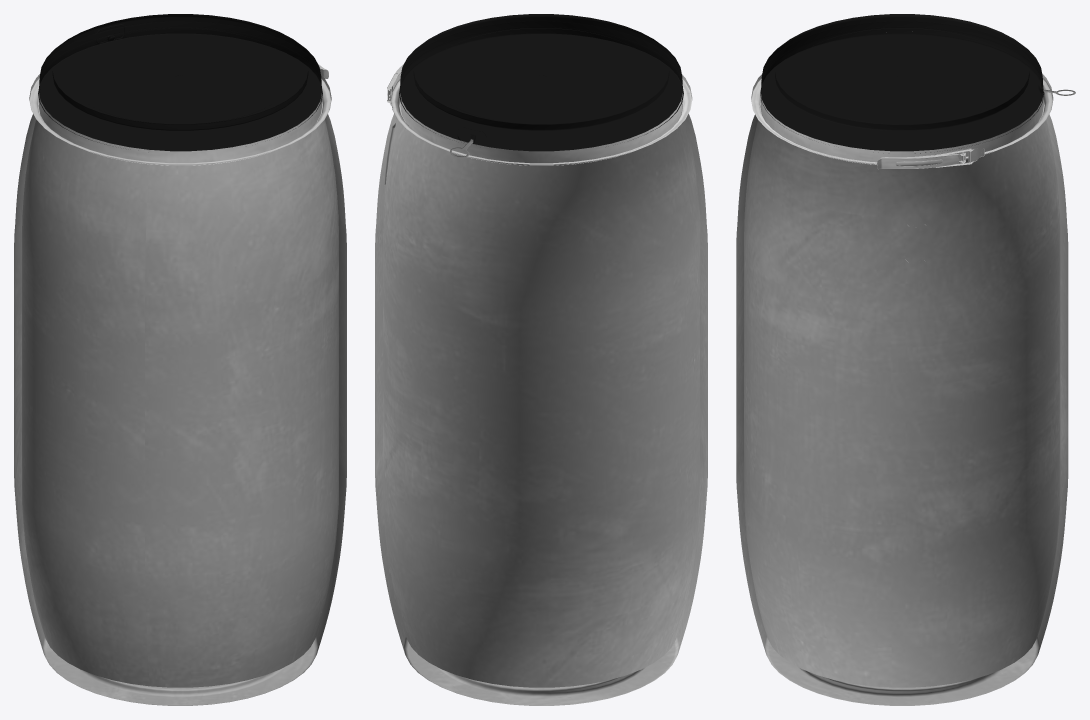
Rendered from barril.glb.
3 renders of one model, left to right at view 1: azimuth 30°, elevation 25°; view 2: azimuth 150°, elevation 25°; view 3: azimuth 270°, elevation 25°, orthographic.
Visible parts, largest first — view 1: sm_warehouse_barrel_plastic_a01_01; view 2: sm_warehouse_barrel_plastic_a01_01; view 3: sm_warehouse_barrel_plastic_a01_01.
Boxes of the visible parts, bbox=[...] form: sm_warehouse_barrel_plastic_a01_01: bbox=[14, 14, 346, 705]; sm_warehouse_barrel_plastic_a01_01: bbox=[375, 14, 707, 705]; sm_warehouse_barrel_plastic_a01_01: bbox=[736, 14, 1075, 705].
Bounding box in the file's own units: 0.5 × 0.9619 × 0.5112.
Materials: 6 (6 with a texture image).
